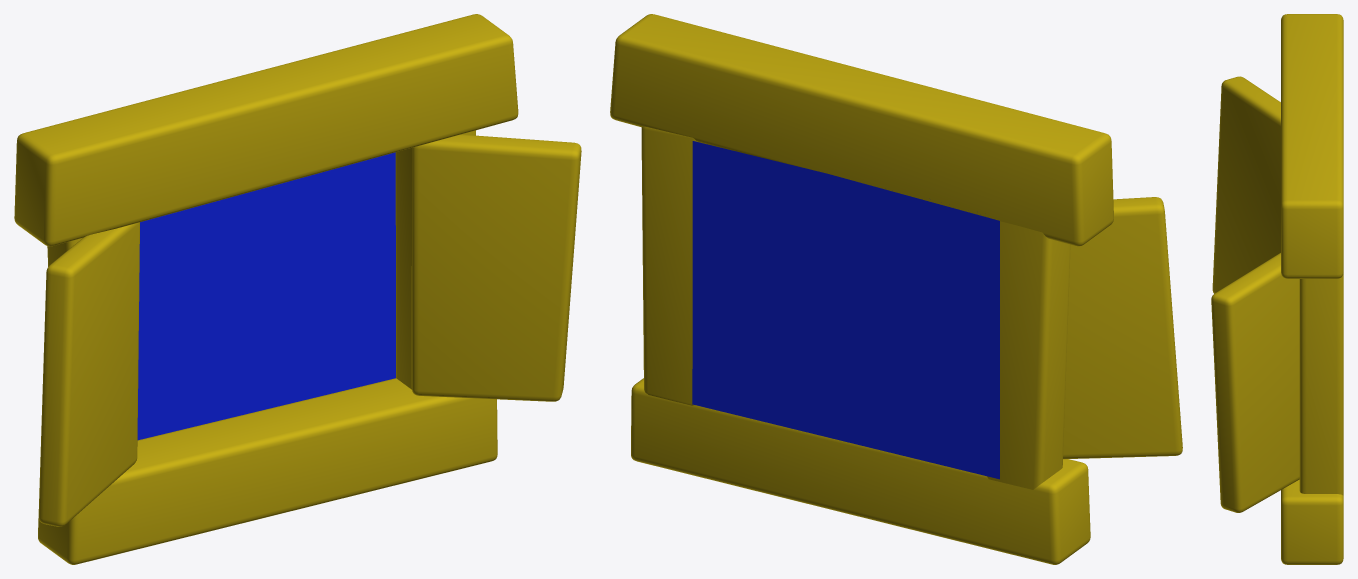
File: SM_Window.fbx
The picture shows the model from 3 angles, left to right: view 1: azimuth 30°, elevation 25°; view 2: azimuth 150°, elevation 25°; view 3: azimuth 270°, elevation 25°; orthographic projection. The views are drawn at different scales.
Visible parts, largest first — view 1: SM_Window; view 2: SM_Window; view 3: SM_Window.
Boxes of the visible parts, x1,y1,x2,y2 form: SM_Window: (14,14,581,564); SM_Window: (610,14,1182,564); SM_Window: (1211,14,1343,564).
Size of the model in its own units: 157 by 118 by 37.94.
